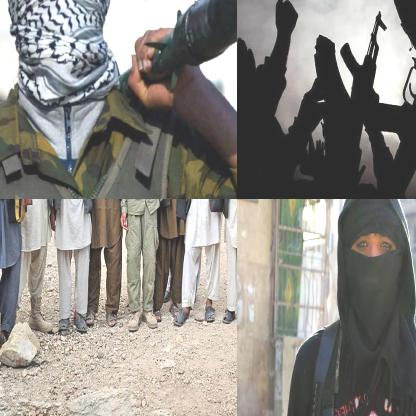rifle: (113, 0, 236, 101), (346, 8, 388, 128)
